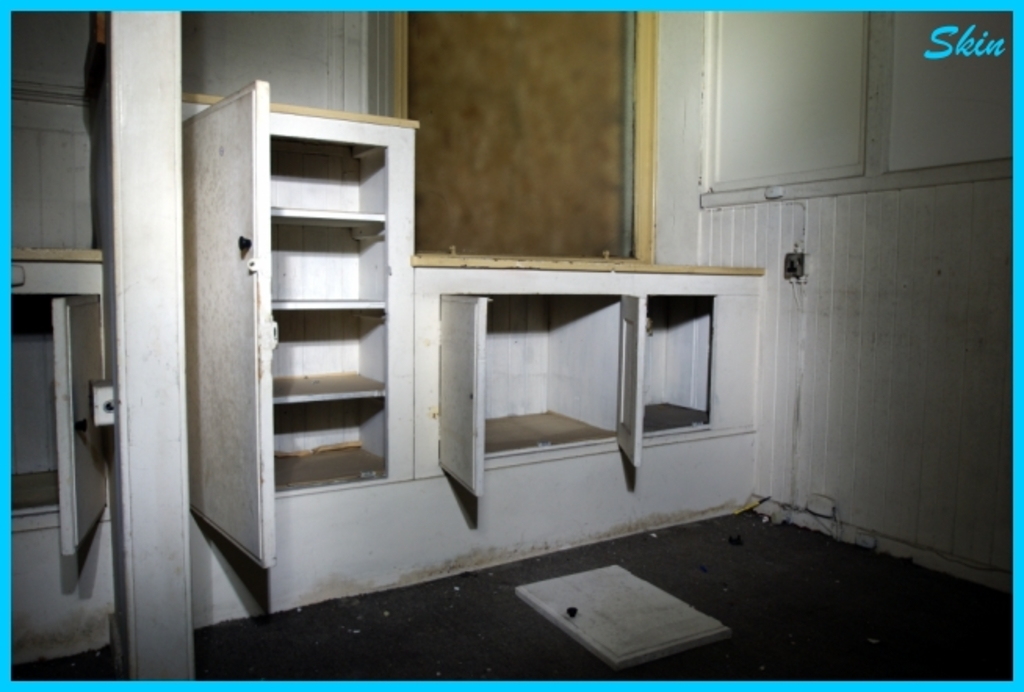Cabinetry: (424, 240, 773, 550), (9, 249, 121, 553)
